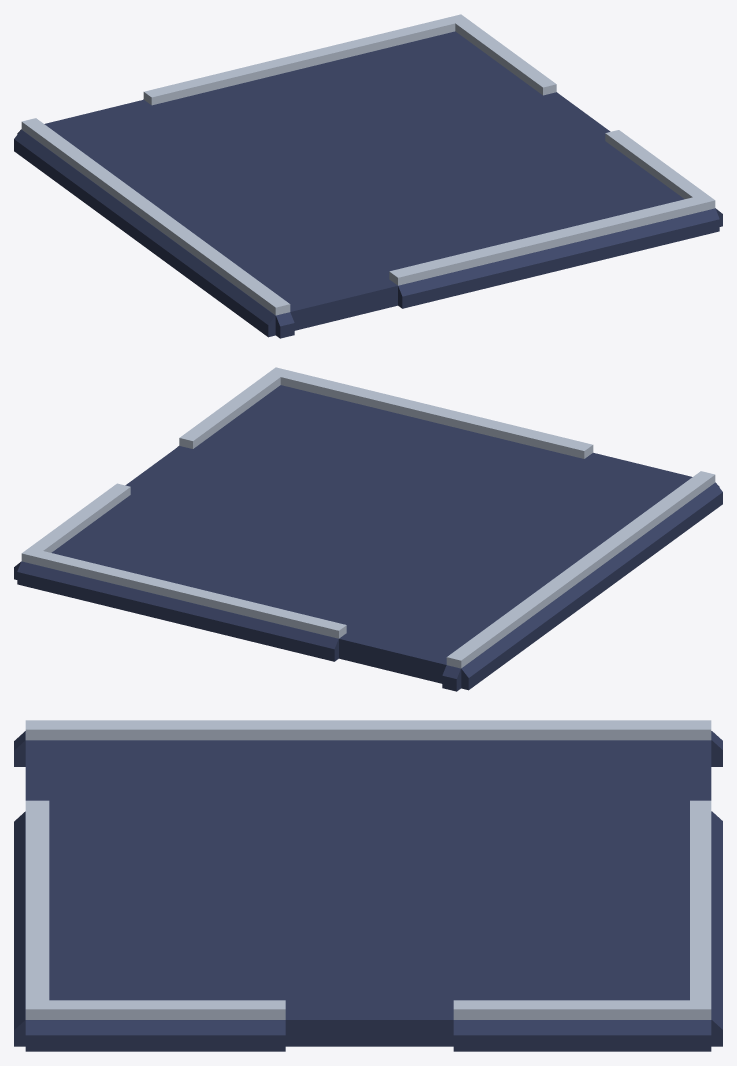
Rendered from adv_junc_3x3.fbx.
3 renders of one model, top to bottom at view 1: azimuth 30°, elevation 25°; view 2: azimuth 150°, elevation 25°; view 3: azimuth 270°, elevation 25°, orthographic. The views are drawn at different scales.
Visible parts, largest first — view 1: adv_junc_3x3; view 2: adv_junc_3x3; view 3: adv_junc_3x3.
Boxes of the visible parts, x1=… form: adv_junc_3x3: x1=14, y1=14, x2=722, y2=338; adv_junc_3x3: x1=14, y1=367, x2=722, y2=691; adv_junc_3x3: x1=14, y1=720, x2=722, y2=1051.
Size of the model in its own units: 599 by 35 by 600.
